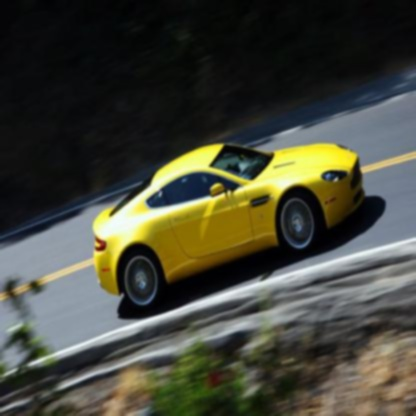Vehicle: (89, 136, 369, 319)
